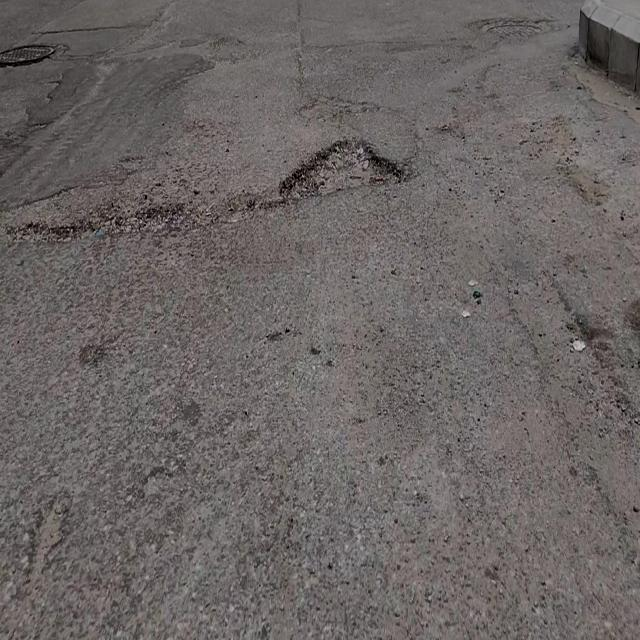Potholes: (276, 130, 408, 208)
